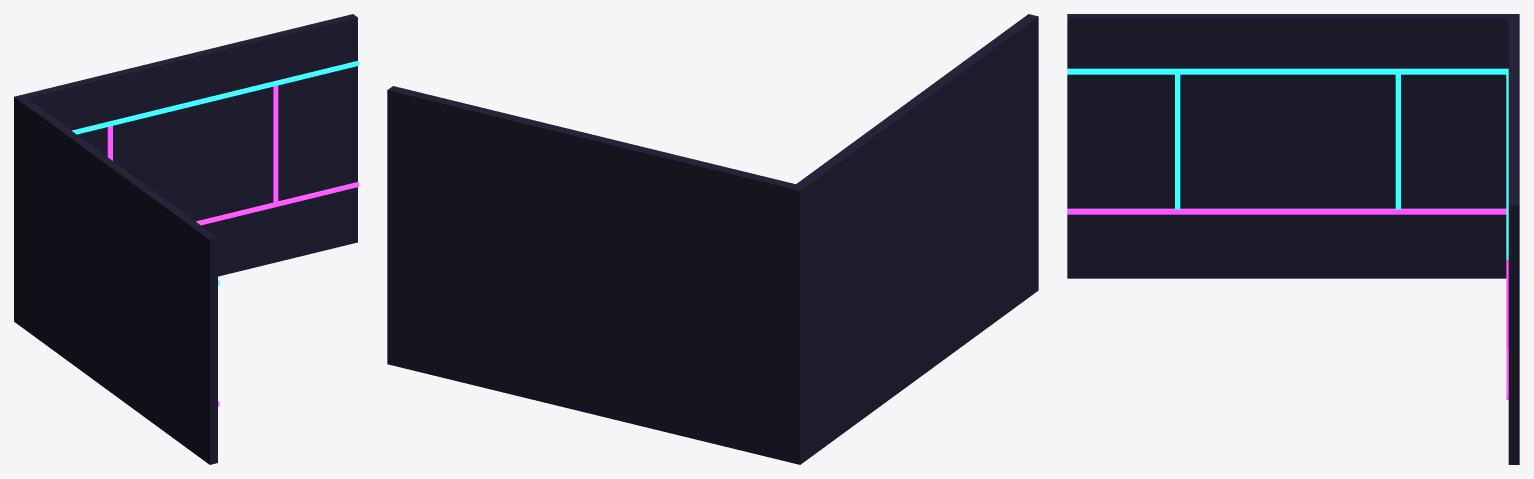
Rendered from walls_neon.e1c605fd8cea.glb.
The picture shows the model from 3 angles, left to right: view 1: azimuth 30°, elevation 25°; view 2: azimuth 150°, elevation 25°; view 3: azimuth 270°, elevation 25°; orthographic projection. The views are drawn at different scales.
Visible parts, largest first — view 1: walls_neon; view 2: walls_neon; view 3: walls_neon.
Part boxes in pixels (left/top/right/bottom): walls_neon: left=14, top=14, right=358, bottom=464; walls_neon: left=387, top=14, right=1038, bottom=464; walls_neon: left=1067, top=14, right=1519, bottom=464.
Size of the model in its own units: 4.1 by 2.6 by 4.1.
